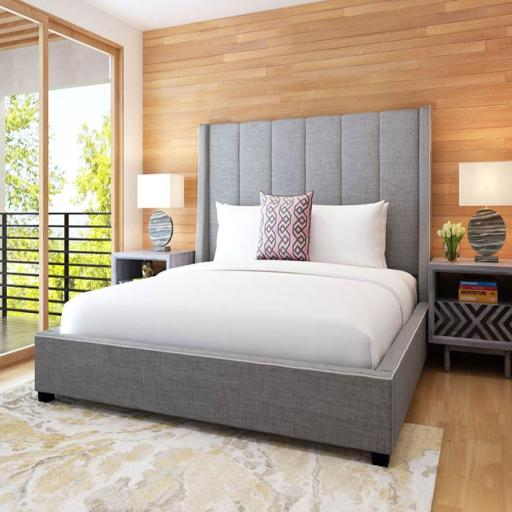bed: (33, 106, 433, 468)
